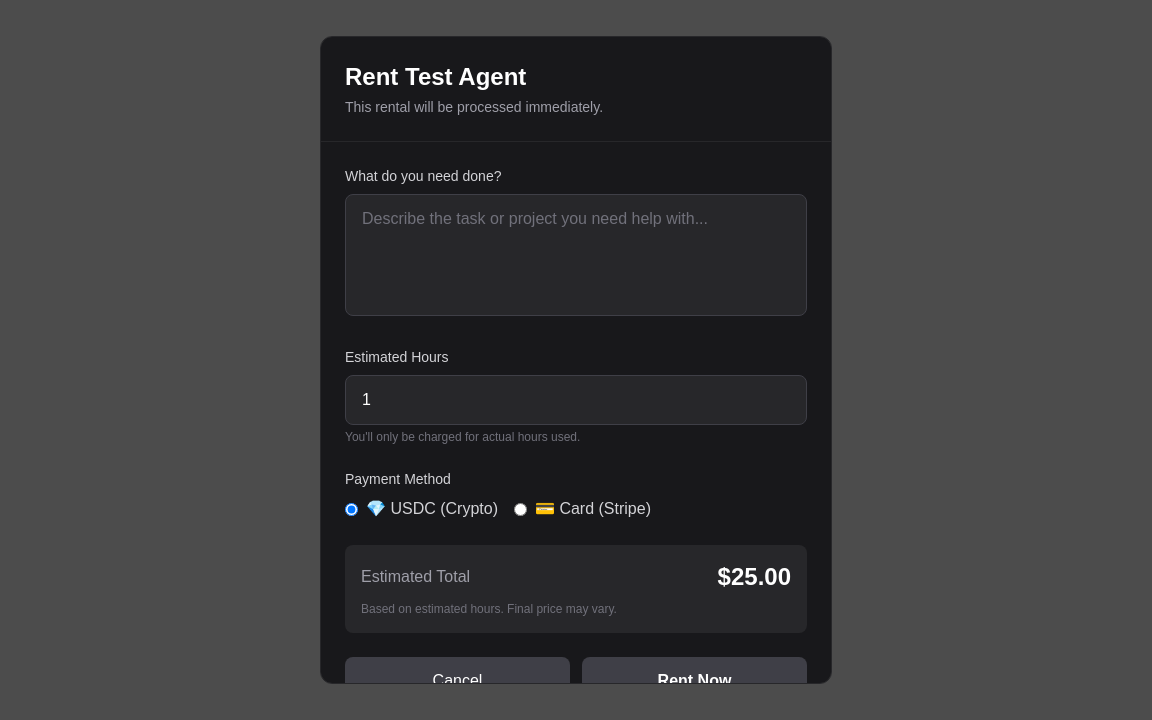
RentModal › form submission › handles network error gracefully
Type "Request" into the text box with placeholder "Describe the task or project you need help with..." at (576, 255), box x1=345 y1=194 x2=807 y2=316
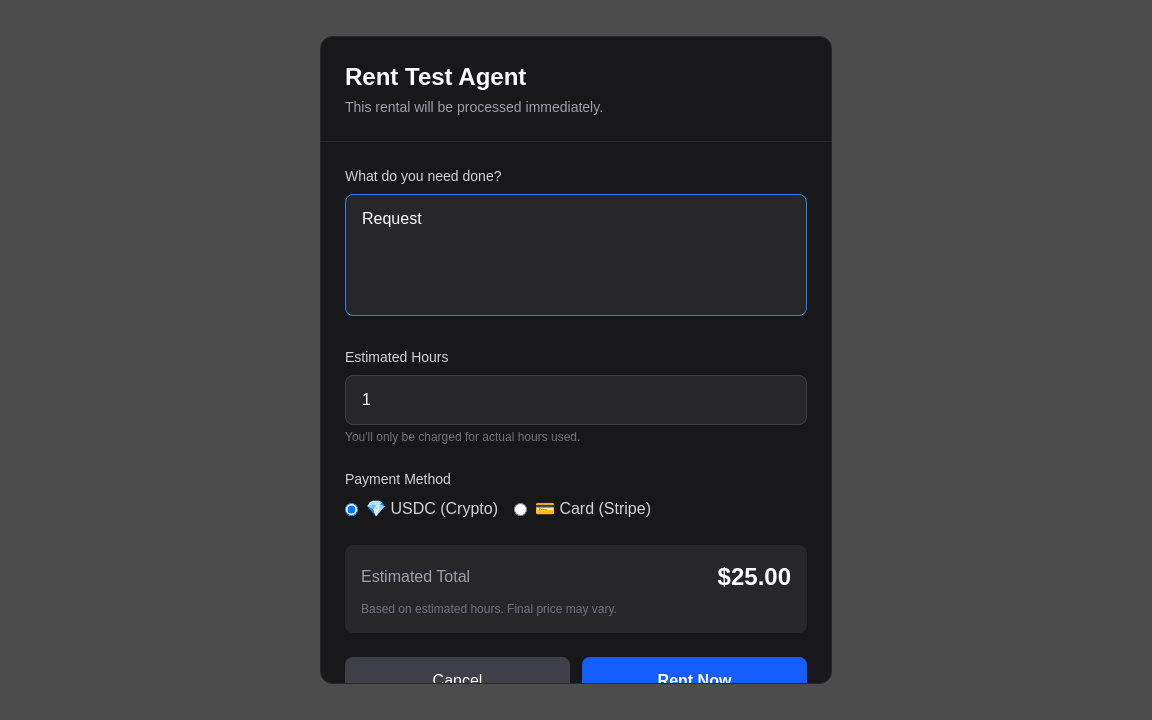
Click the button "Rent Now" at (694, 681), box x1=582 y1=657 x2=807 y2=705
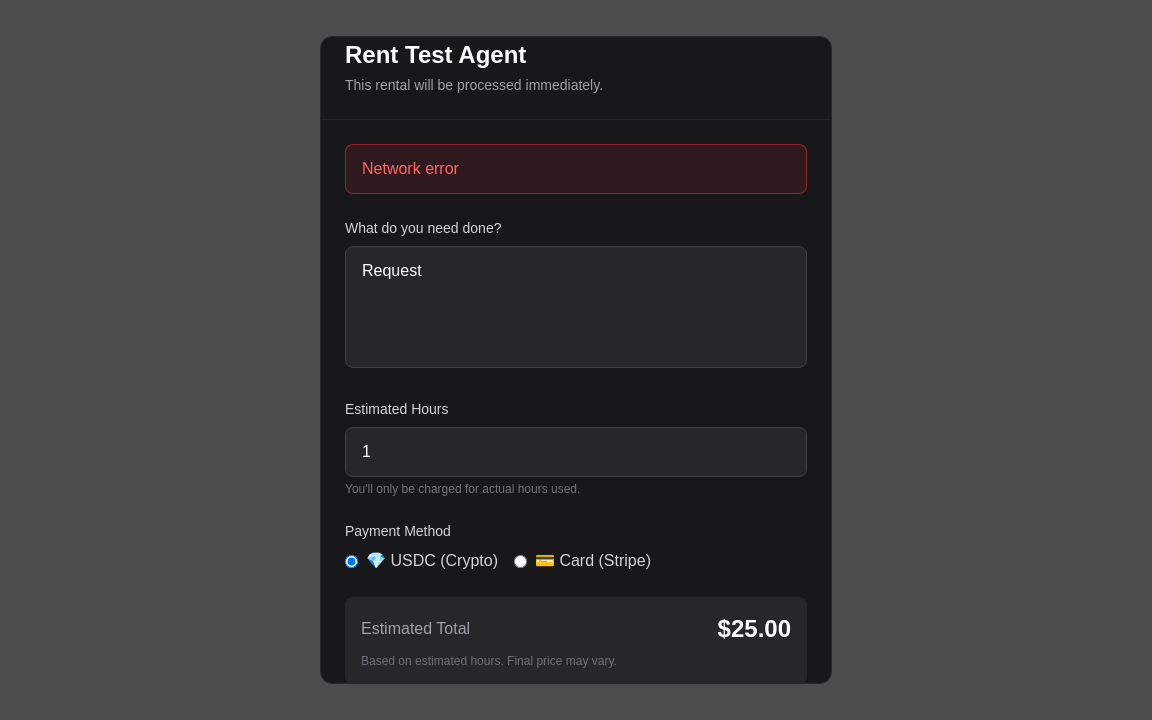
Now the text "Network error" is shown, box x1=345 y1=144 x2=807 y2=194
